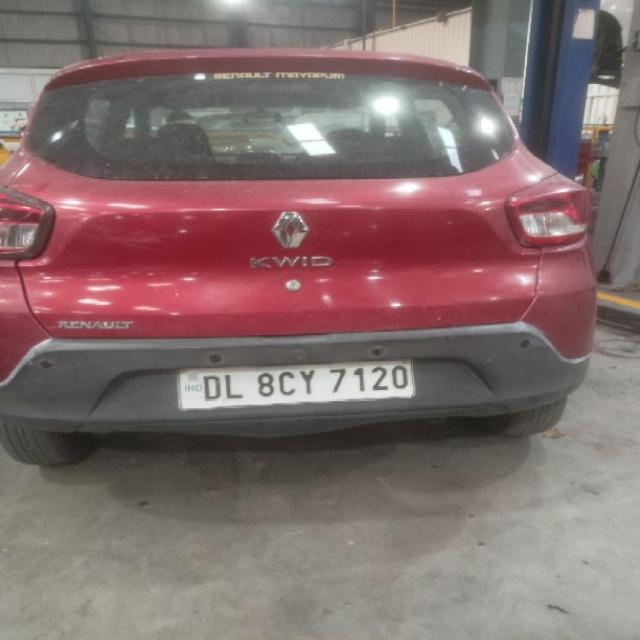license_plate: (175, 357, 416, 411)
